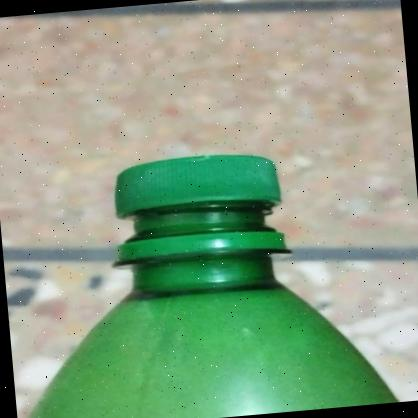cap: (105, 148, 290, 262)
